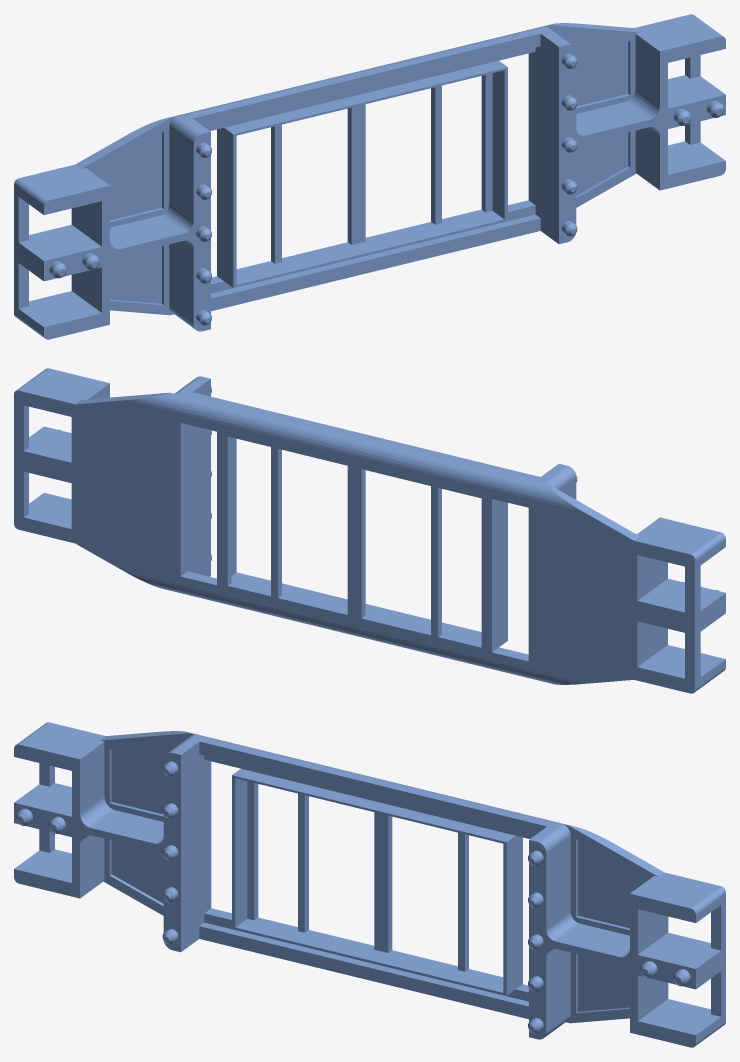
Rendered from shell0_3.gltf.
The picture shows the model from 3 angles, top to bottom: view 1: azimuth 30°, elevation 25°; view 2: azimuth 150°, elevation 25°; view 3: azimuth 330°, elevation 25°; orthographic projection.
Visible parts, largest first — view 1: mesh2478, mesh1764, mesh2374, mesh2371, mesh2366, mesh2474, mesh2445, mesh2439, mesh2448, mesh2385, mesh2382, mesh2433 (+33 smaller); view 2: mesh2466, mesh2374, mesh2474, mesh2367, mesh2382, mesh2364, mesh2173, mesh2455, mesh2189, mesh2463, mesh2458, mesh2194 (+19 smaller); view 3: mesh1764, mesh2478, mesh2371, mesh2366, mesh2474, mesh2439, mesh2369, mesh2445, mesh2448, mesh2385, mesh2383, mesh2426 (+35 smaller).
Boxes of the visible parts, box(x1,y1,x2,y2) form: mesh2478: box(44, 132, 210, 339); mesh1764: box(559, 36, 725, 244); mesh2374: box(528, 34, 558, 243); mesh2371: box(193, 33, 540, 127); mesh2366: box(211, 218, 540, 311); mesh2474: box(236, 209, 503, 284); mesh2445: box(92, 132, 161, 220); mesh2439: box(559, 35, 628, 106); mesh2448: box(233, 67, 507, 287); mesh2385: box(224, 60, 507, 134); mesh2382: box(217, 128, 233, 287); mesh2433: box(110, 246, 161, 303); mesh2466: box(14, 390, 694, 693); mesh2374: box(180, 379, 210, 576); mesh2474: box(228, 572, 481, 647); mesh2367: box(179, 376, 567, 482); mesh2382: box(492, 499, 507, 651); mesh2364: box(634, 517, 720, 554); mesh2173: box(19, 368, 109, 404); mesh2455: box(696, 539, 725, 688); mesh2189: box(183, 405, 527, 491); mesh2463: box(638, 579, 725, 612); mesh2458: box(638, 645, 725, 678); mesh2194: box(183, 408, 526, 494); mesh1764: box(529, 840, 695, 1047); mesh2478: box(14, 744, 180, 952); mesh2371: box(199, 741, 546, 835); mesh2366: box(199, 926, 528, 1019); mesh2474: box(236, 917, 503, 992); mesh2439: box(578, 840, 647, 928); mesh2369: box(181, 754, 199, 951); mesh2445: box(111, 743, 180, 814); mesh2448: box(232, 775, 506, 995); mesh2385: box(232, 768, 515, 842); mesh2383: box(506, 836, 522, 995); mesh2426: box(578, 954, 629, 1011).
Bounding box in the file's own units: 0.196 × 0.0542 × 0.018.
